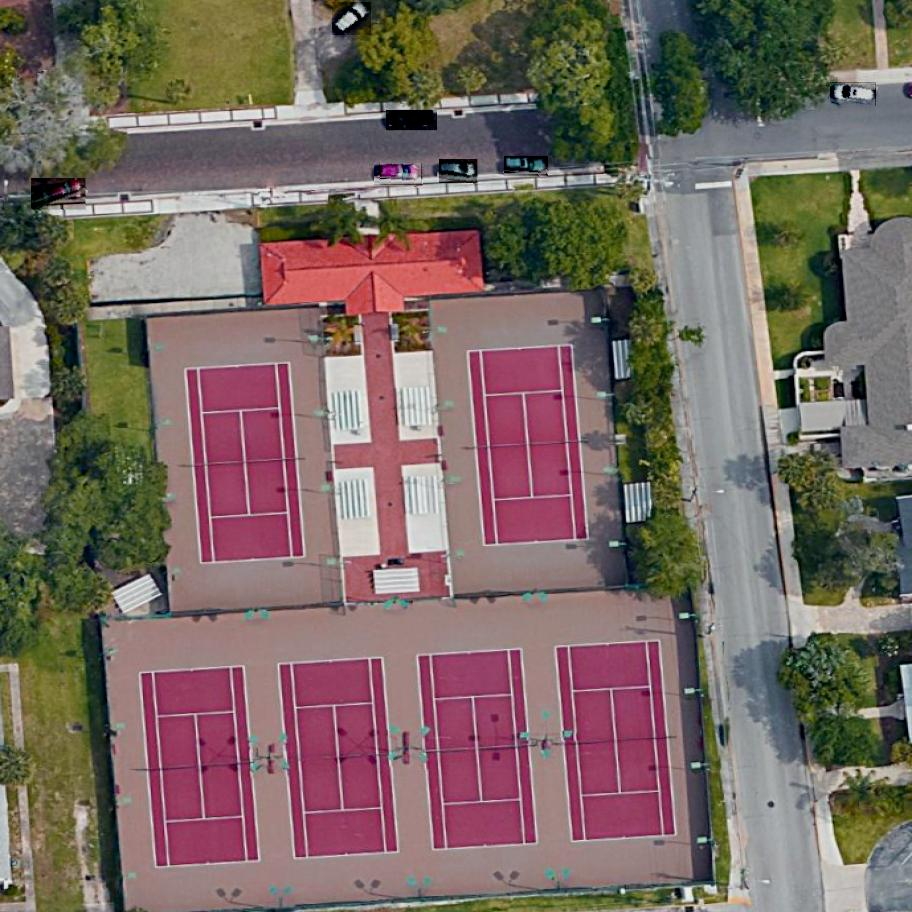small-vehicle: (31, 178, 86, 212), (333, 1, 372, 39), (385, 110, 438, 132), (830, 83, 876, 107), (375, 163, 421, 184), (439, 159, 478, 183), (505, 156, 547, 176)
